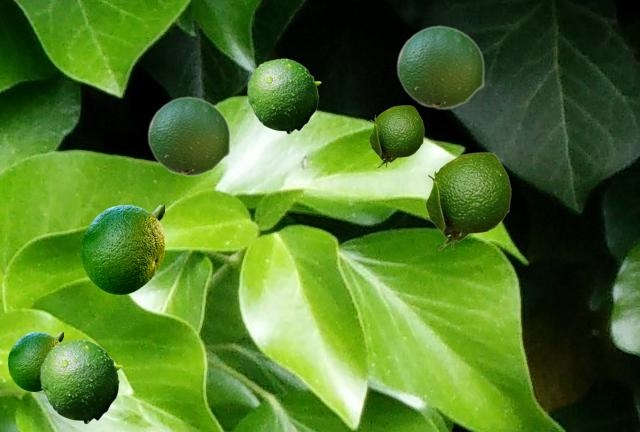dalandan: (424, 152, 510, 249), (396, 25, 484, 109), (81, 205, 163, 293), (40, 339, 121, 423), (147, 96, 230, 176), (247, 58, 320, 133), (368, 105, 423, 167), (8, 332, 62, 390)
